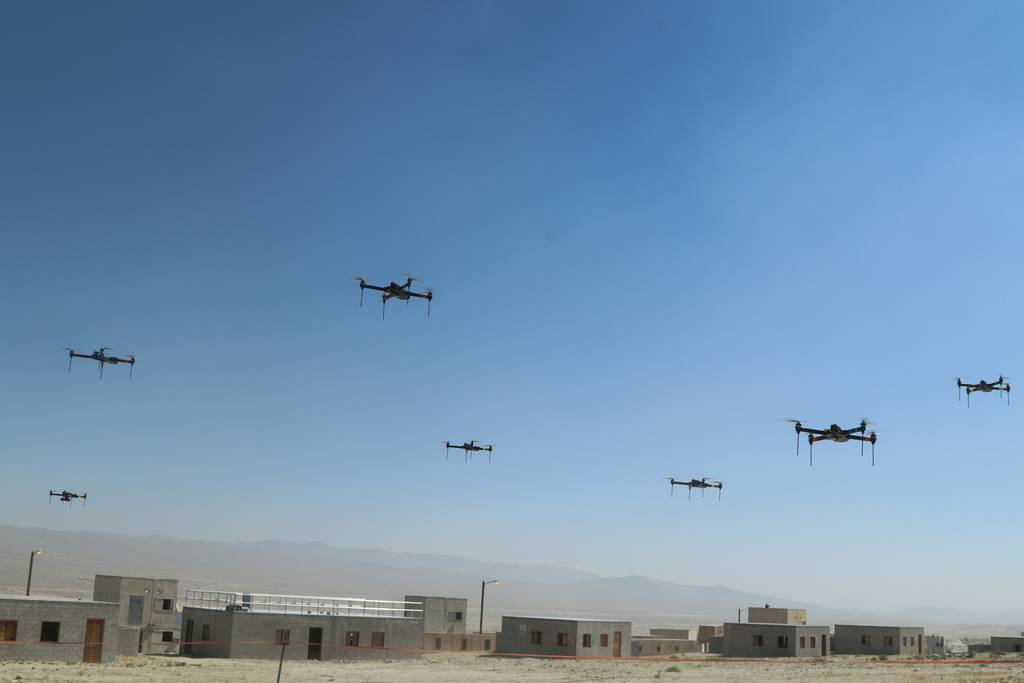drone: (788, 411, 882, 445), (354, 275, 434, 310), (62, 342, 136, 372), (953, 370, 1016, 394), (46, 484, 88, 508), (664, 475, 725, 491), (440, 437, 494, 451)
